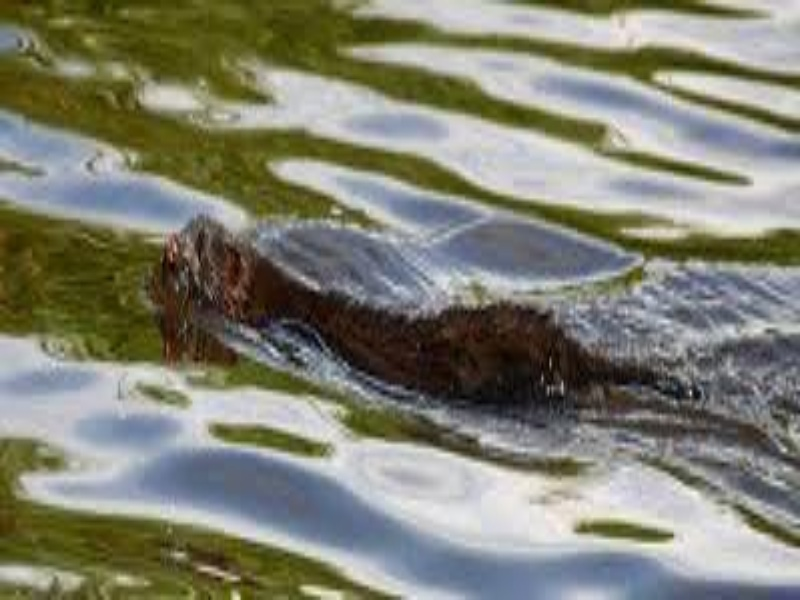minkish: (155, 210, 708, 440)
